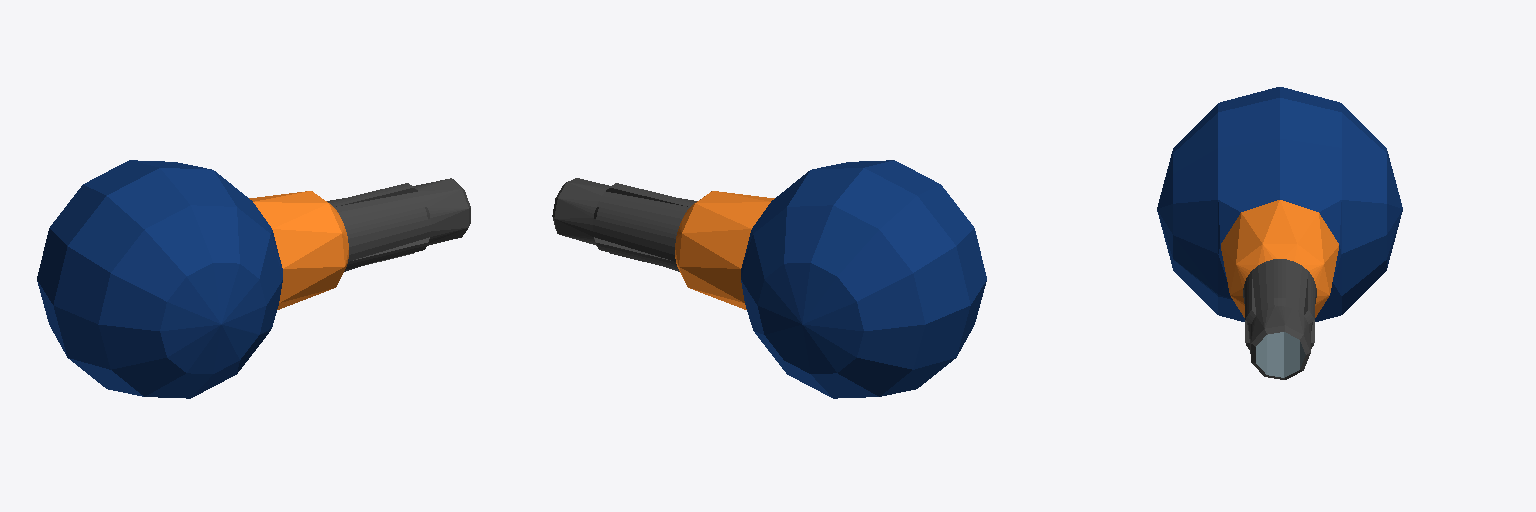
File: Cannon.obj
3 views of the same model, side by side, from view 1: azimuth 30°, elevation 25°; view 2: azimuth 150°, elevation 25°; view 3: azimuth 270°, elevation 25° (orthographic).
Parts seen in each view (by area): view 1: Solid1; view 2: Solid1; view 3: Solid1.
Part boxes in pixels (bbox=[...]): Solid1: bbox=[37, 160, 470, 398]; Solid1: bbox=[552, 160, 986, 398]; Solid1: bbox=[1157, 87, 1402, 379].
Size of the model in its own units: 9.5 by 5 by 5.